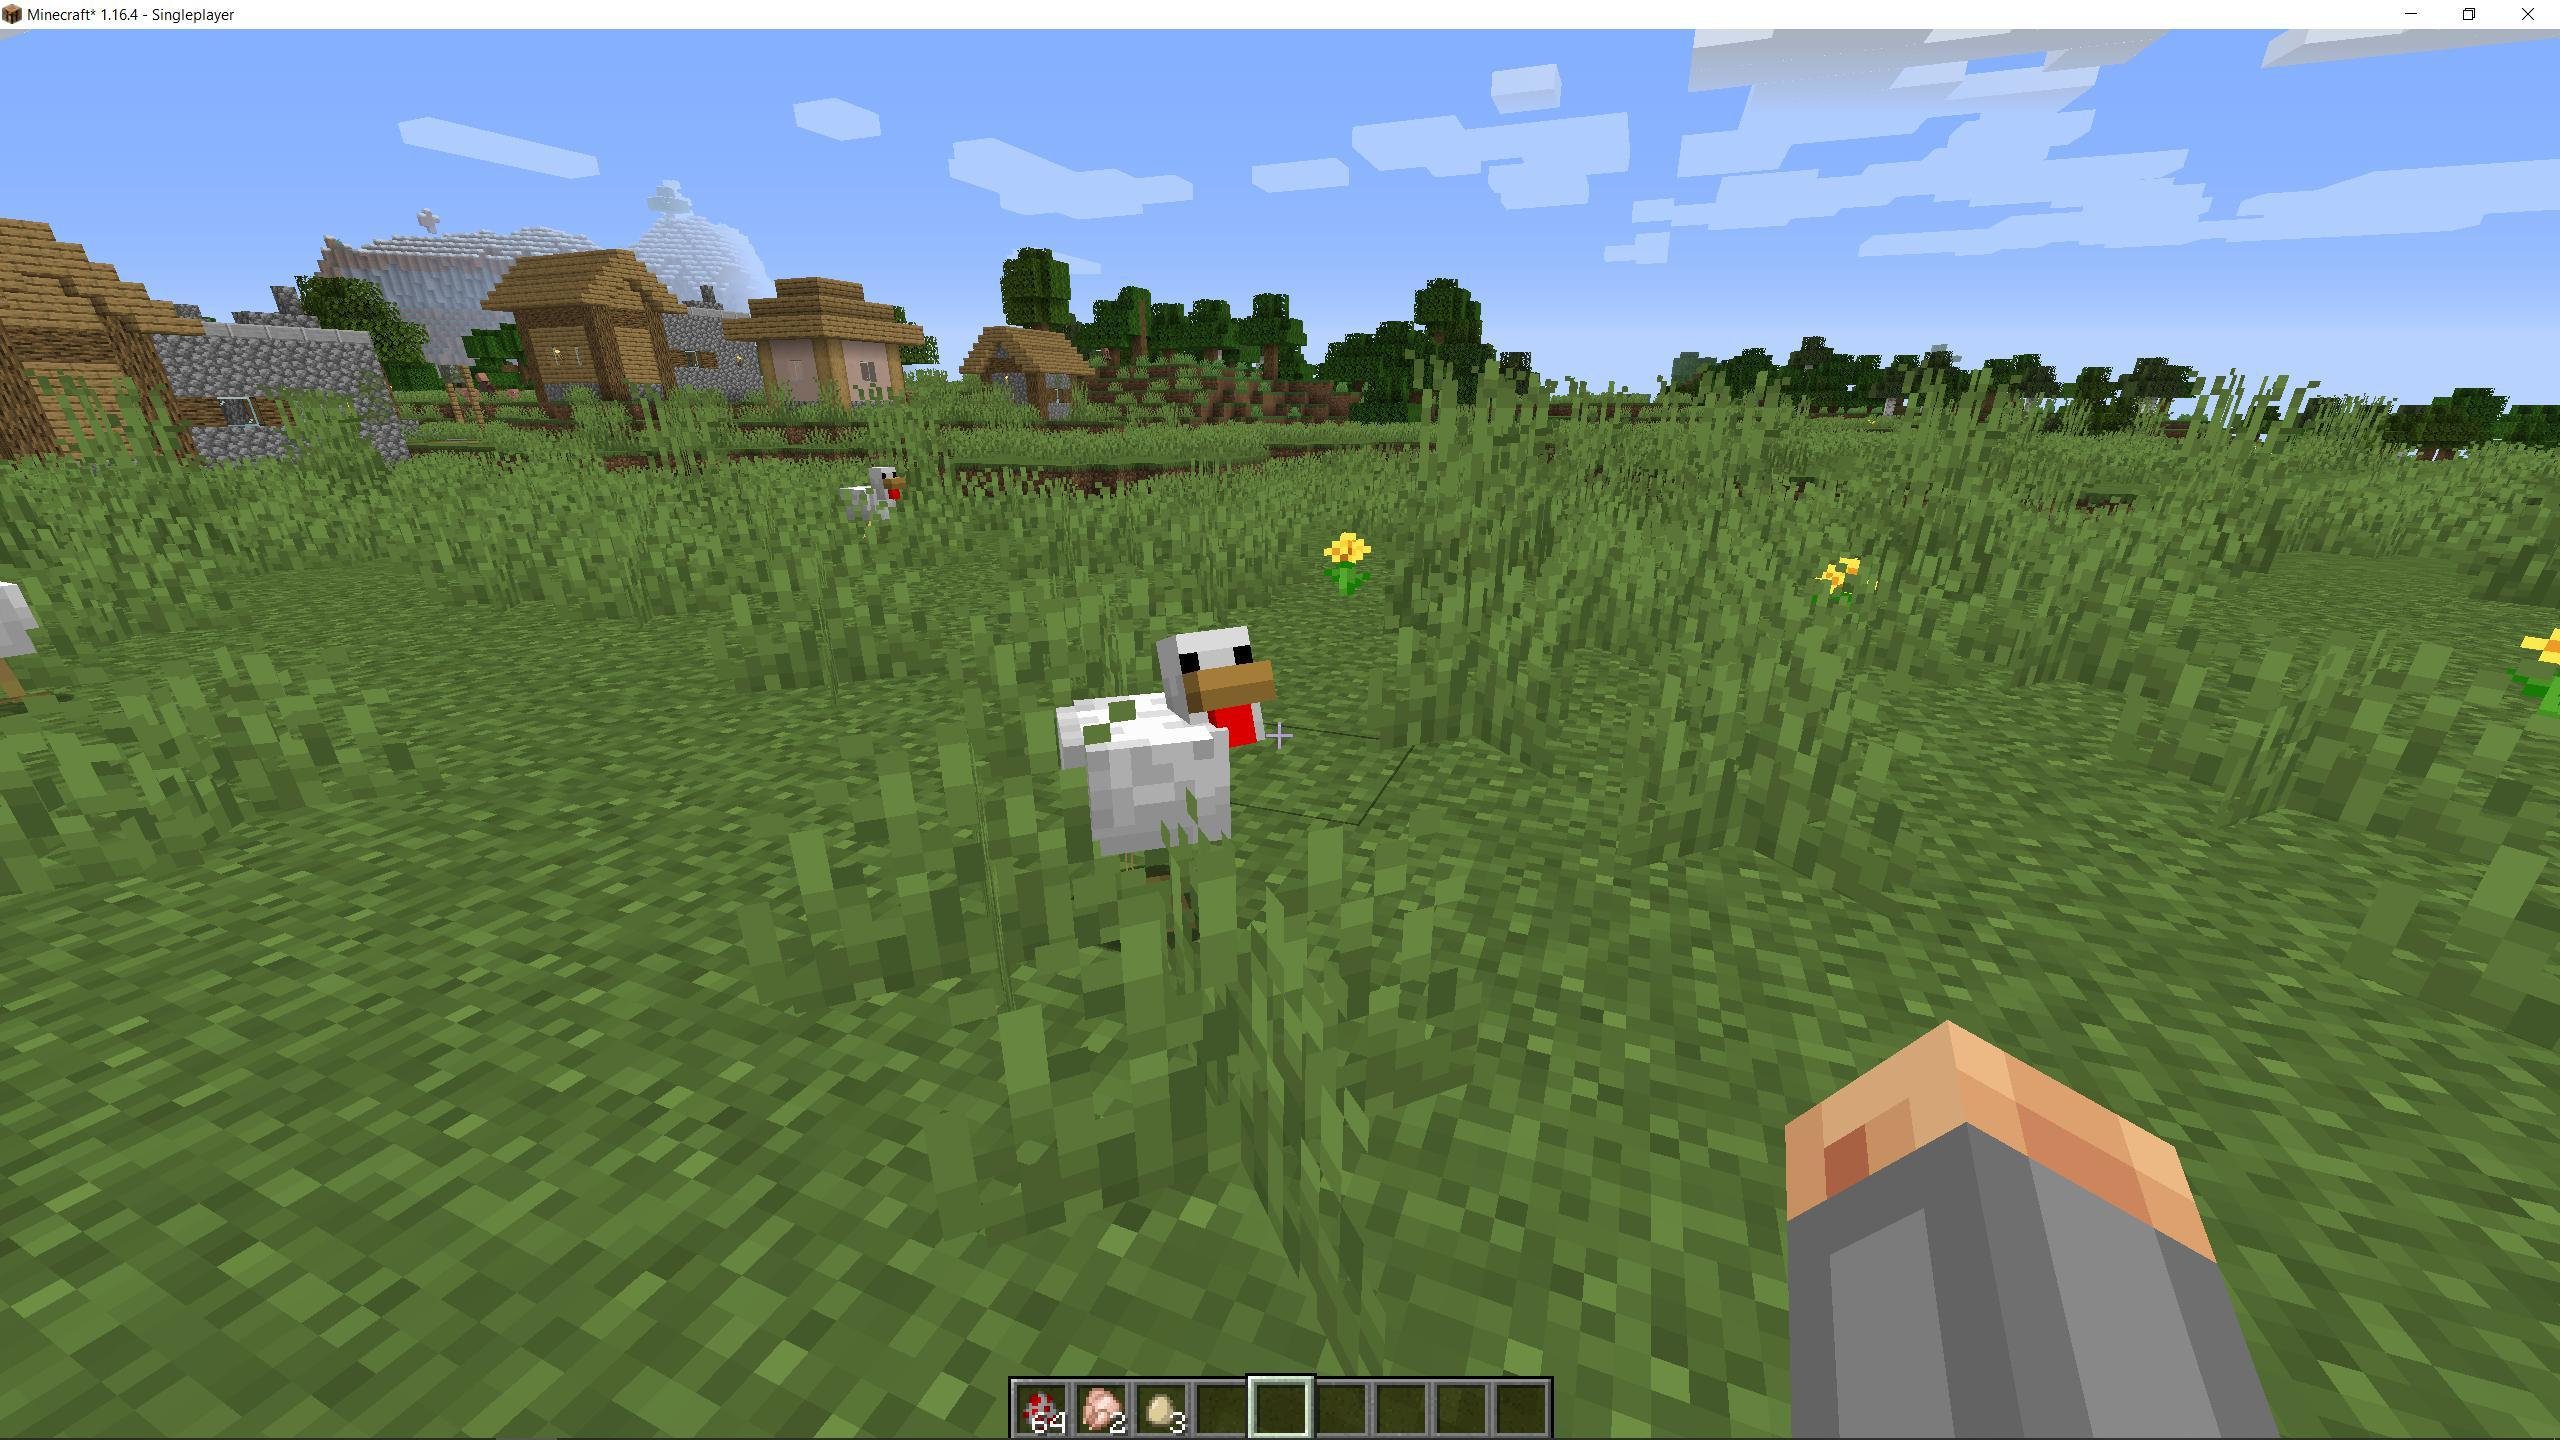chicken: (1053, 605, 1292, 918), (837, 461, 914, 549)
